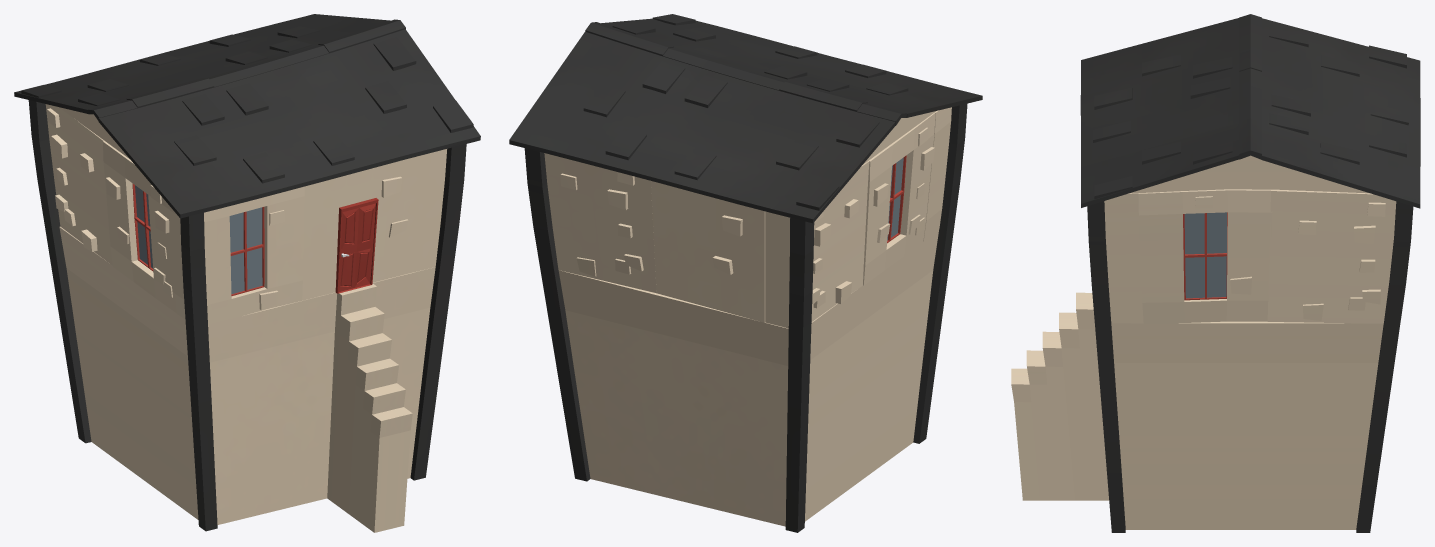
The model's file is 6 skewed - col.glb.
3 renders of one model, left to right at view 1: azimuth 30°, elevation 25°; view 2: azimuth 150°, elevation 25°; view 3: azimuth 270°, elevation 25°, orthographic.
Visible parts, largest first — view 1: 6 skewed - col.001; view 2: 6 skewed - col.001; view 3: 6 skewed - col.001.
Part boxes in pixels (left/top/right/bottom): 6 skewed - col.001: left=14, top=14, right=480, bottom=532; 6 skewed - col.001: left=509, top=14, right=982, bottom=532; 6 skewed - col.001: left=1011, top=14, right=1420, bottom=532.
Bounding box in the file's own units: 17.04 × 21.03 × 19.33.
2 materials, 1 textured.
